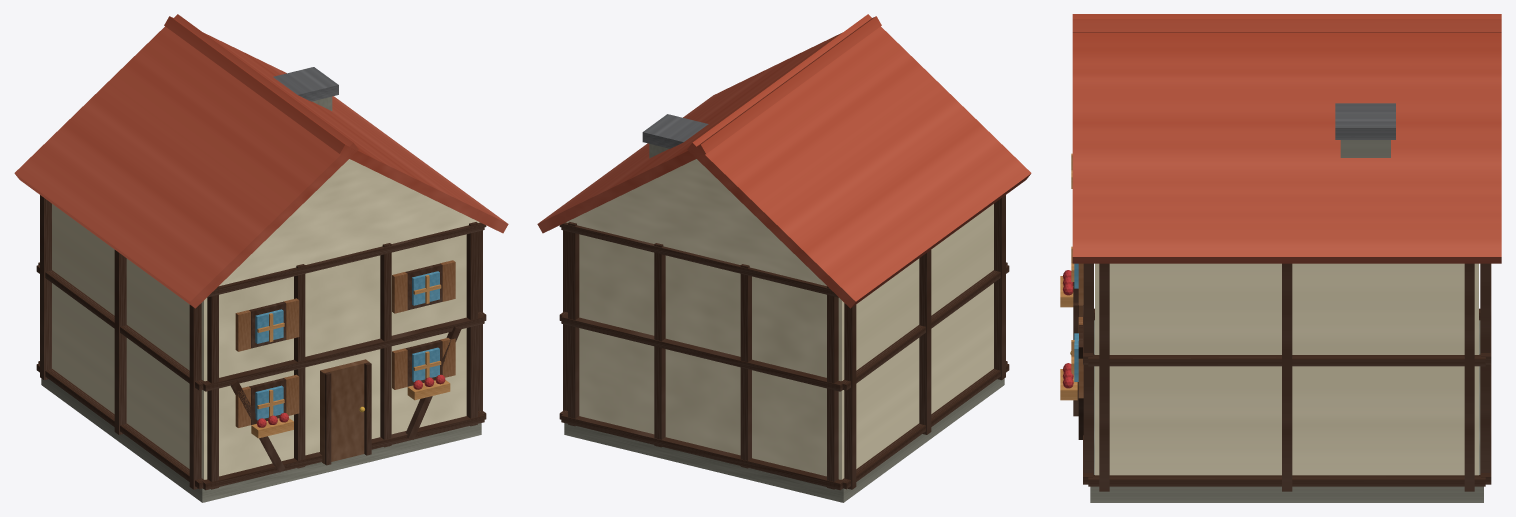
The model's file is huis_vakwerk_middel.glb.
The picture shows the model from 3 angles, left to right: view 1: azimuth 30°, elevation 25°; view 2: azimuth 150°, elevation 25°; view 3: azimuth 270°, elevation 25°; orthographic projection. The views are drawn at different scales.
Parts seen in each view (by area): view 1: world; view 2: world; view 3: world.
Part boxes in pixels (x1,y1,x2,y2): world: (14, 14, 508, 502); world: (537, 14, 1031, 502); world: (1060, 14, 1501, 502).
Bounding box in the file's own units: 5.7 × 5.66 × 5.61.
1 material, 1 textured.
